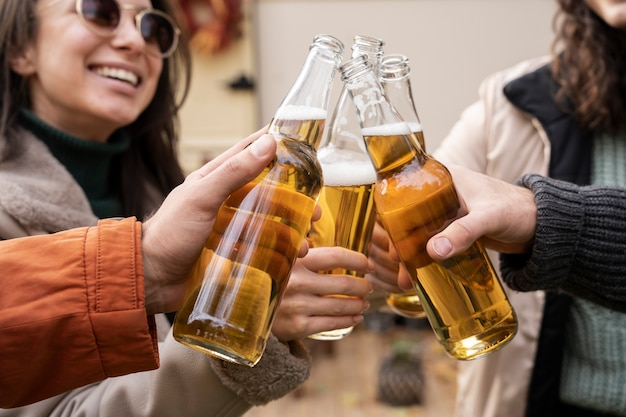alcohol: (172, 33, 346, 369), (330, 55, 520, 361), (289, 34, 383, 345), (372, 53, 455, 320)
